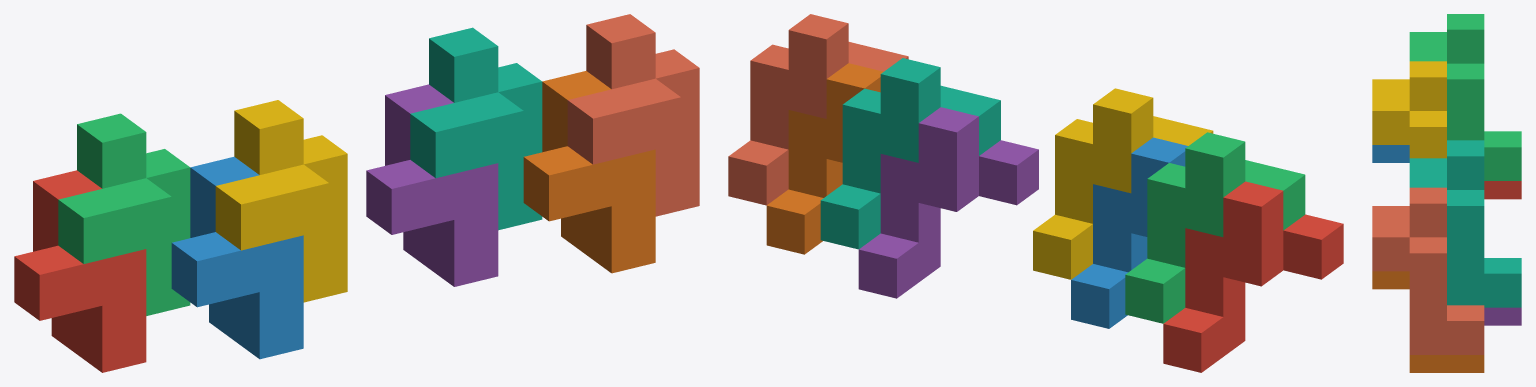
The model's file is tiling.obj.
3 views of the same model, side by side, from view 1: azimuth 30°, elevation 25°; view 2: azimuth 150°, elevation 25°; view 3: azimuth 270°, elevation 25° (orthographic). The views are drawn at different scales.
Visible parts, largest first — view 1: copy_1_domain_4, copy_1_domain_8, copy_1_domain_7, copy_1_domain_3, copy_1_domain_5, copy_1_domain_1, copy_1_domain_2, copy_1_domain_6; view 2: copy_1_domain_5, copy_1_domain_1, copy_1_domain_3, copy_1_domain_7, copy_1_domain_8, copy_1_domain_4, copy_1_domain_6, copy_1_domain_2; view 3: copy_1_domain_8, copy_1_domain_7, copy_1_domain_3, copy_1_domain_4, copy_1_domain_6, copy_1_domain_1, copy_1_domain_5, copy_1_domain_2.
Boxes of the visible parts, left/top/right/bottom form: copy_1_domain_4: left=215, top=100, right=347, bottom=302; copy_1_domain_8: left=567, top=14, right=699, bottom=216; copy_1_domain_7: left=410, top=27, right=542, bottom=230; copy_1_domain_3: left=58, top=113, right=190, bottom=315; copy_1_domain_5: left=366, top=84, right=498, bottom=286; copy_1_domain_1: left=14, top=170, right=146, bottom=372; copy_1_domain_2: left=171, top=156, right=303, bottom=359; copy_1_domain_6: left=523, top=71, right=655, bottom=273; copy_1_domain_5: left=858, top=107, right=1038, bottom=298; copy_1_domain_1: left=1163, top=181, right=1343, bottom=372; copy_1_domain_3: left=1125, top=132, right=1305, bottom=323; copy_1_domain_7: left=820, top=58, right=1000, bottom=249; copy_1_domain_8: left=728, top=14, right=908, bottom=205; copy_1_domain_4: left=1033, top=88, right=1213, bottom=279; copy_1_domain_6: left=766, top=63, right=883, bottom=254; copy_1_domain_2: left=1071, top=137, right=1187, bottom=328; copy_1_domain_8: left=1372, top=187, right=1484, bottom=354; copy_1_domain_7: left=1409, top=140, right=1521, bottom=307; copy_1_domain_3: left=1409, top=14, right=1521, bottom=180; copy_1_domain_4: left=1372, top=61, right=1446, bottom=158; copy_1_domain_6: left=1372, top=271, right=1484, bottom=372; copy_1_domain_1: left=1484, top=181, right=1521, bottom=199; copy_1_domain_5: left=1484, top=307, right=1521, bottom=325; copy_1_domain_2: left=1372, top=145, right=1409, bottom=162.
Bounding box in the file's own units: 15 × 5 × 4.
